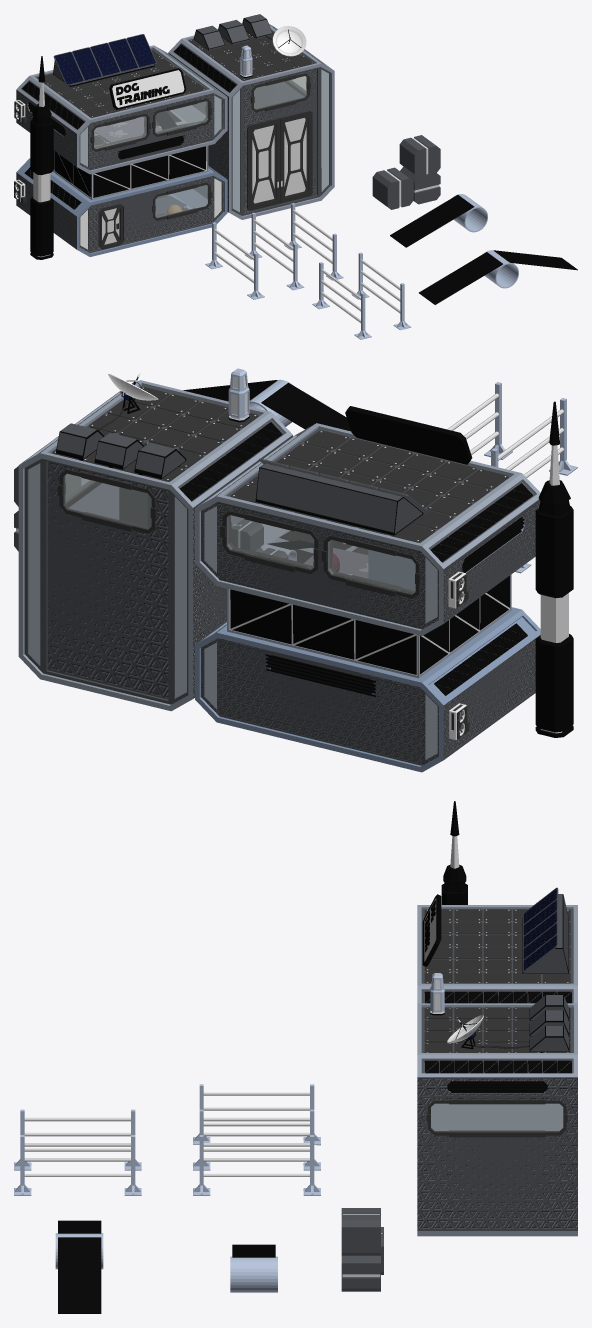
The model's file is Training level 3 Interior.fbx.
3 renders of one model, top to bottom at view 1: azimuth 30°, elevation 25°; view 2: azimuth 150°, elevation 25°; view 3: azimuth 270°, elevation 25°, orthographic. The views are drawn at different scales.
Parts seen in each view (by area): view 1: Training level 3.008, Training level 3.012, Training level 3.014, Training level 3.001, Training level 3.013, Training level 3.025, Training level 3.021, Training level 3.002, Training level 3.015, Training level 3.026, Training level 3.003, Training level 3.022 (+5 smaller); view 2: Training level 3.008, Training level 3.009, Training level 3.007, Training level 3.016, Training level 3.013, Training level 3.006, Training level 3.021, Training level 3.012, Training level 3.005, Training level 3.004, Training level 3.022, Training level 3.017 (+5 smaller); view 3: Training level 3.008, Training level 3.010, Training level 3.012, Training level 3.025, Training level 3.021, Training level 3.026, Training level 3.013, Training level 3.022.
Part boxes in pixels (x1,y1,x2,y2): Training level 3.008: [14, 14, 334, 256]; Training level 3.012: [205, 203, 577, 339]; Training level 3.014: [80, 95, 222, 166]; Training level 3.001: [79, 176, 223, 252]; Training level 3.013: [30, 56, 53, 259]; Training level 3.025: [372, 135, 440, 209]; Training level 3.021: [53, 34, 156, 86]; Training level 3.002: [79, 93, 223, 170]; Training level 3.015: [80, 178, 222, 249]; Training level 3.026: [390, 194, 487, 247]; Training level 3.003: [244, 68, 316, 212]; Training level 3.022: [109, 68, 186, 109]; Training level 3.008: [18, 368, 540, 772]; Training level 3.009: [47, 461, 168, 699]; Training level 3.007: [201, 638, 438, 765]; Training level 3.016: [204, 506, 437, 623]; Training level 3.013: [535, 401, 573, 737]; Training level 3.006: [201, 501, 438, 629]; Training level 3.021: [255, 458, 428, 535]; Training level 3.012: [183, 379, 577, 573]; Training level 3.005: [443, 635, 540, 759]; Training level 3.004: [443, 499, 540, 623]; Training level 3.022: [345, 406, 472, 464]; Training level 3.017: [204, 642, 437, 760]; Training level 3.008: [417, 905, 577, 1236]; Training level 3.010: [417, 1077, 577, 1230]; Training level 3.012: [14, 1084, 320, 1313]; Training level 3.025: [341, 1208, 383, 1291]; Training level 3.021: [522, 887, 568, 973]; Training level 3.026: [230, 1244, 277, 1292]; Training level 3.013: [441, 801, 467, 904]; Training level 3.022: [422, 894, 441, 966].
Bounding box in the file's own units: 968 × 467 × 905.
